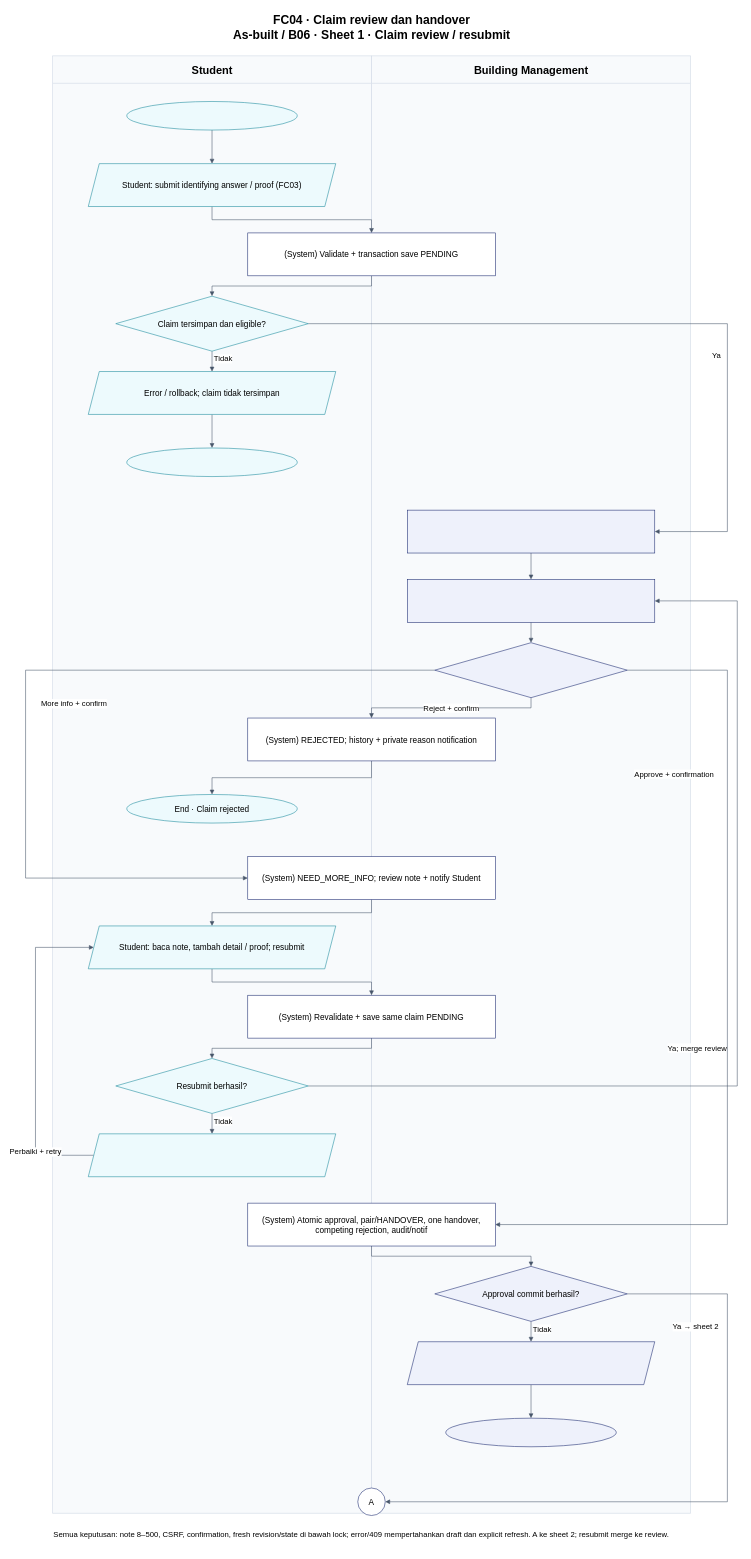
Some shapes in this 751 by 1559 pixel diagram are drawn without their labels. Each missing label, with the centre of its shape:
"BM: buka queued claim yang tepat" goes at point (531, 531).
"BM: draft tetap; refresh exact record dan reconfirm" goes at point (531, 1363).
"BM: review private evidence; prepare note + confirmation" goes at point (531, 600).
"End · Approval tidak diterapkan" goes at point (530, 1432).
"End · Claim tidak diajukan" goes at point (211, 462).
"Keputusan BM?" goes at point (530, 670).
"Perbaiki error; draft dan next action tersedia" goes at point (212, 1155).
"Start" goes at point (211, 115).
